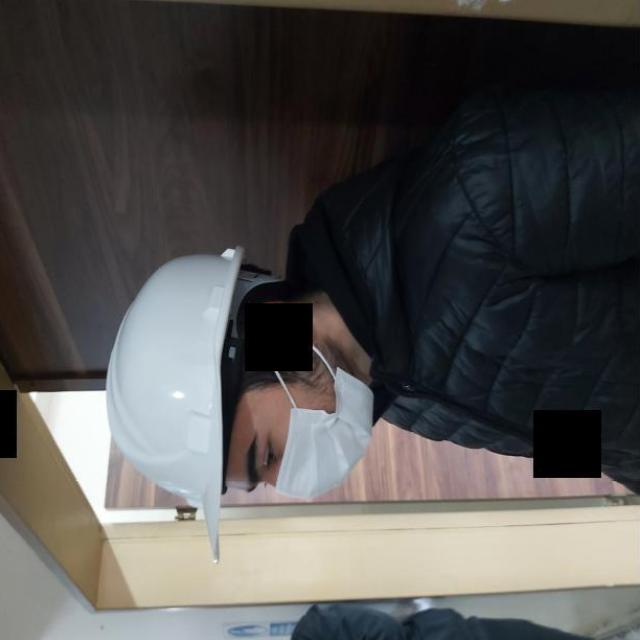helmet: (106, 243, 286, 562)
